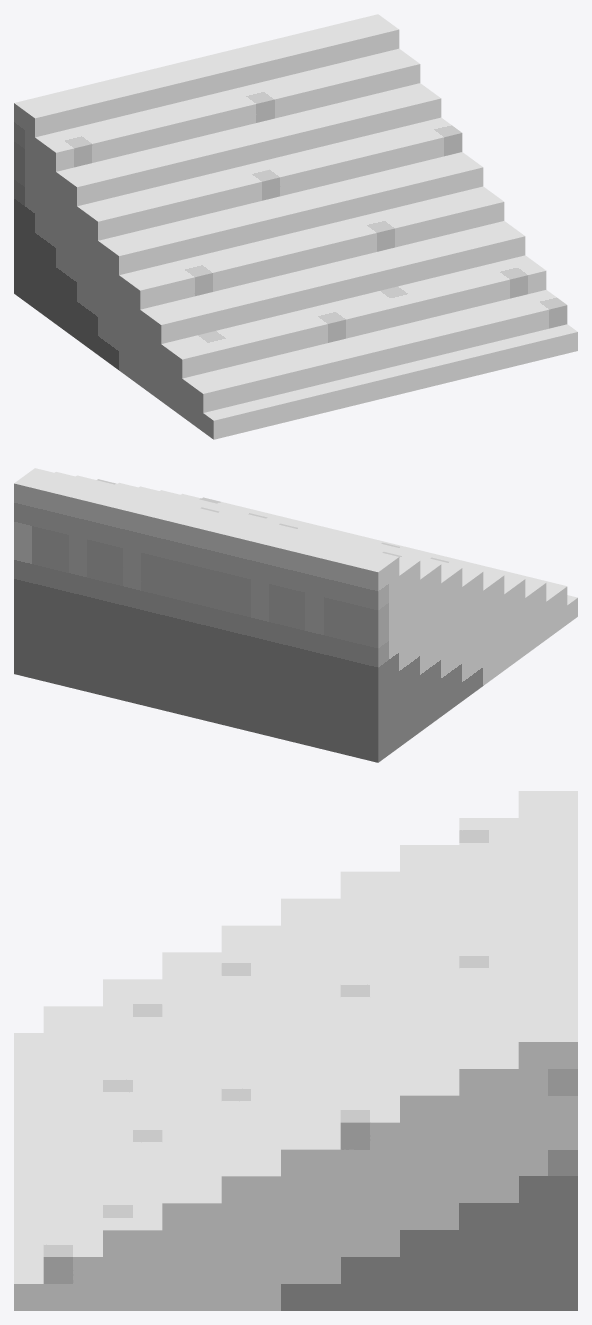
The model's file is half_top_ramp_bot_mid.glb.
3 views of the same model, one above another, from view 1: azimuth 30°, elevation 25°; view 2: azimuth 150°, elevation 25°; view 3: azimuth 270°, elevation 25° (orthographic). The views are drawn at different scales.
Parts seen in each view (by area): view 1: half_top_ramp_bot_mid; view 2: half_top_ramp_bot_mid; view 3: half_top_ramp_bot_mid.
Part boxes in pixels (x1,y1,x2,y2): half_top_ramp_bot_mid: [14, 14, 577, 439]; half_top_ramp_bot_mid: [14, 468, 577, 762]; half_top_ramp_bot_mid: [14, 791, 577, 1310].
Size of the model in its own units: 2 by 1 by 1.9.
1 material, 1 textured.
